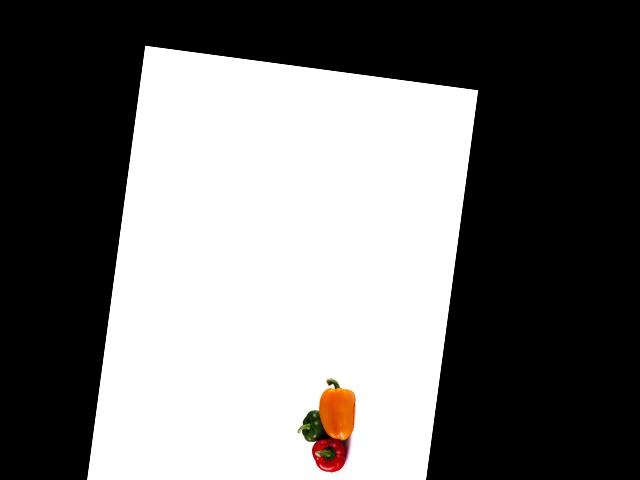bell_pepper: (295, 405, 333, 447)
